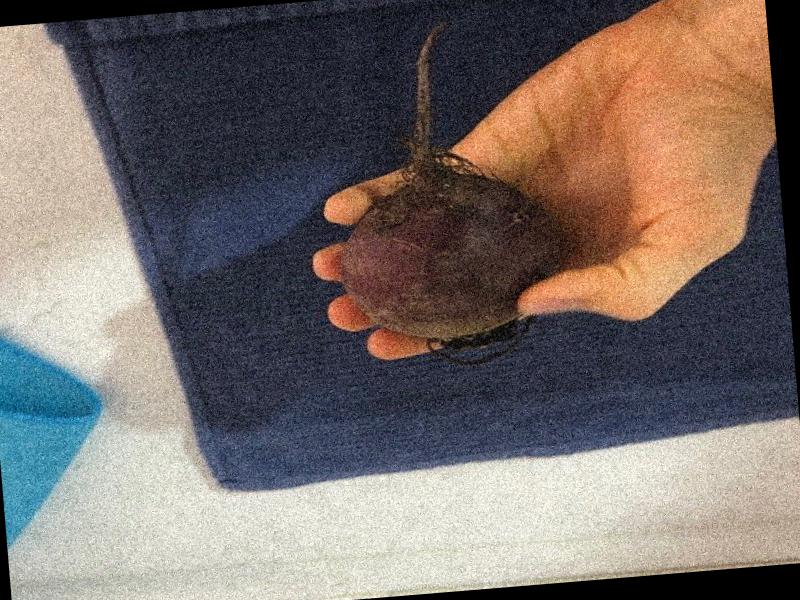Beet: (320, 14, 568, 373)
